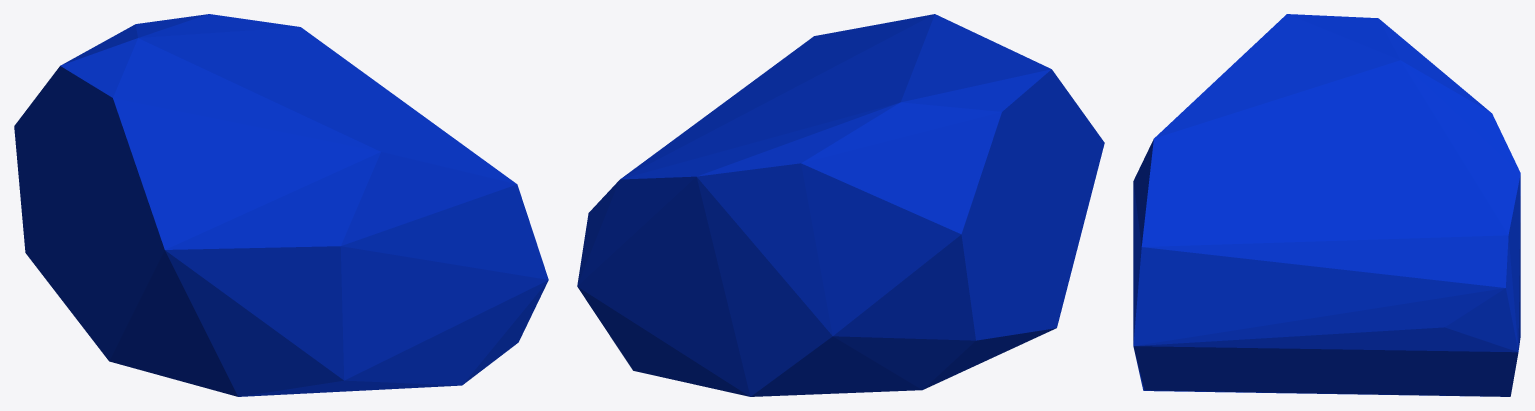
The model's file is tarsus_convex_piece_002.obj.
The picture shows the model from 3 angles, left to right: view 1: azimuth 30°, elevation 25°; view 2: azimuth 150°, elevation 25°; view 3: azimuth 270°, elevation 25°; orthographic projection. The views are drawn at different scales.
Size of the model in its own units: 0.0547 by 0.0433 by 0.0579.
